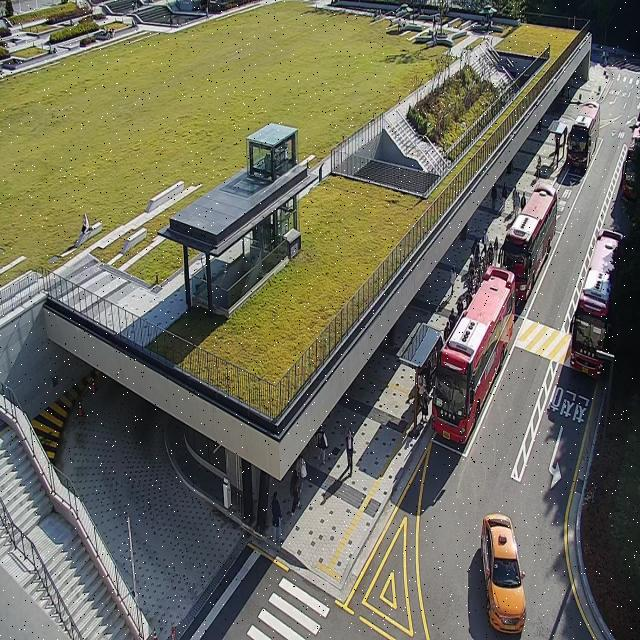queue: (416, 236, 499, 434)
